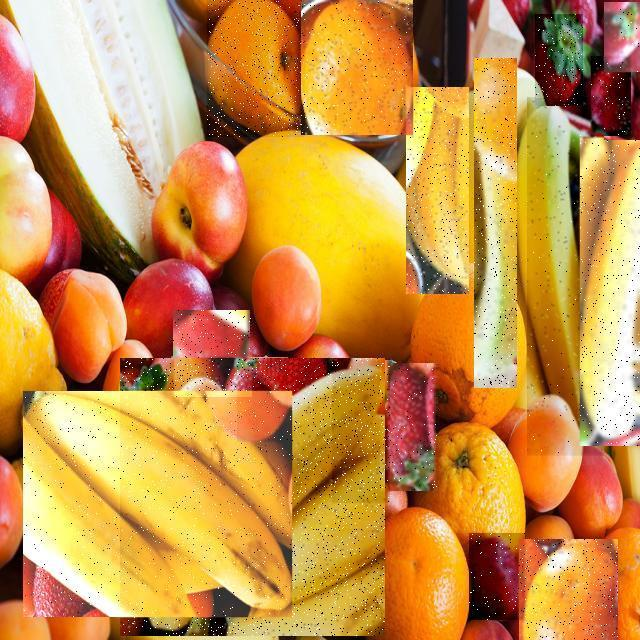Banana: (120, 358, 385, 636), (23, 391, 292, 617), (527, 98, 604, 458), (580, 140, 640, 446), (474, 58, 517, 388), (406, 87, 469, 294)
Orange: (301, 0, 413, 135), (207, 0, 305, 137), (519, 539, 618, 640)
Straw Berry: (332, 360, 392, 503), (380, 363, 438, 491), (174, 310, 252, 397), (469, 533, 525, 620), (535, 14, 583, 106), (237, 357, 288, 442), (591, 56, 631, 136), (604, 2, 640, 72)
